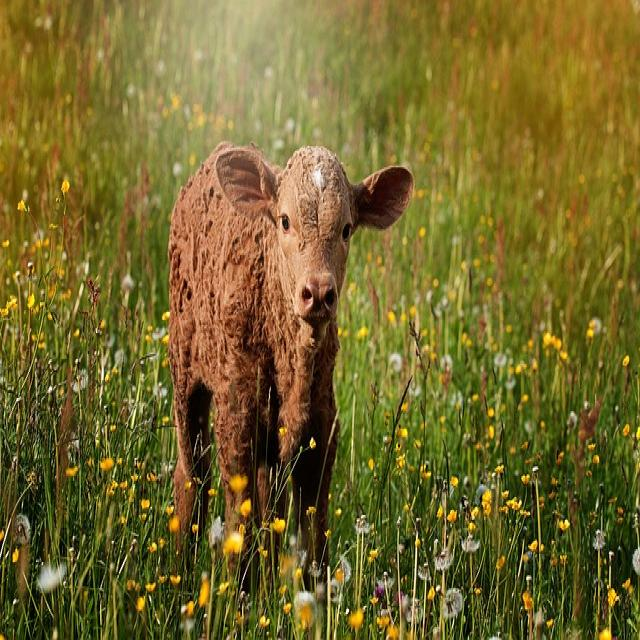Herbivorous: (166, 143, 415, 570)
